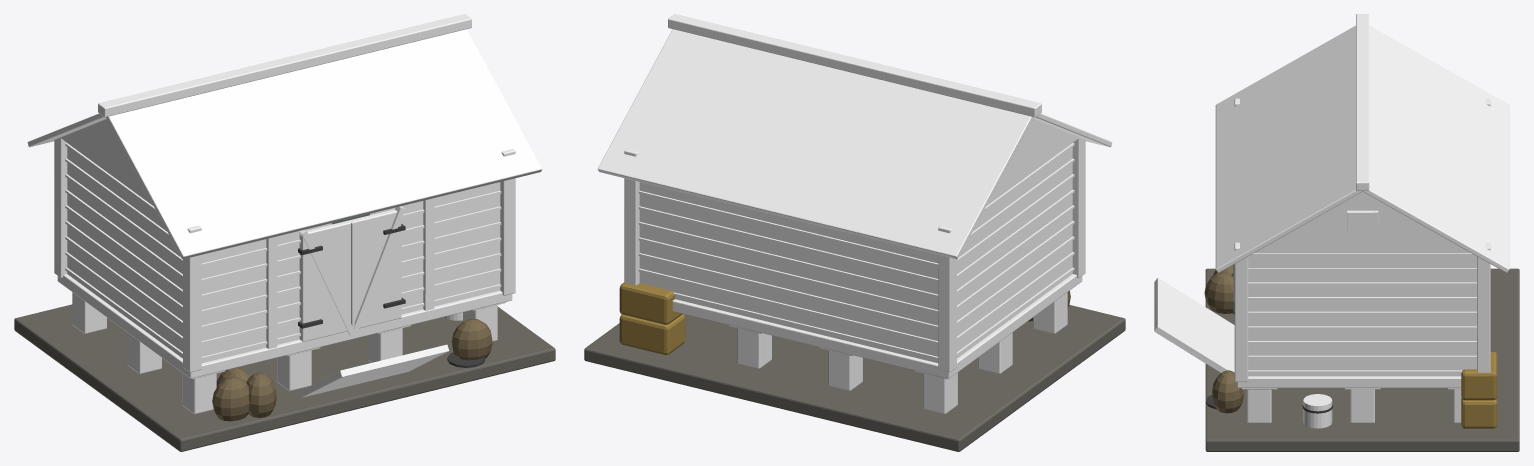
Rendered from ambar.glb.
The picture shows the model from 3 angles, left to right: view 1: azimuth 30°, elevation 25°; view 2: azimuth 150°, elevation 25°; view 3: azimuth 270°, elevation 25°; orthographic projection. The views are drawn at different scales.
Visible parts, largest first — view 1: Alin; view 2: Alin; view 3: Alin.
Part boxes in pixels (x1,y1,x2,y2): Alin: (14,14,555,451); Alin: (584,14,1125,451); Alin: (1154,14,1519,451).
Bounding box in the file's own units: 1 × 0.725 × 0.8951.
